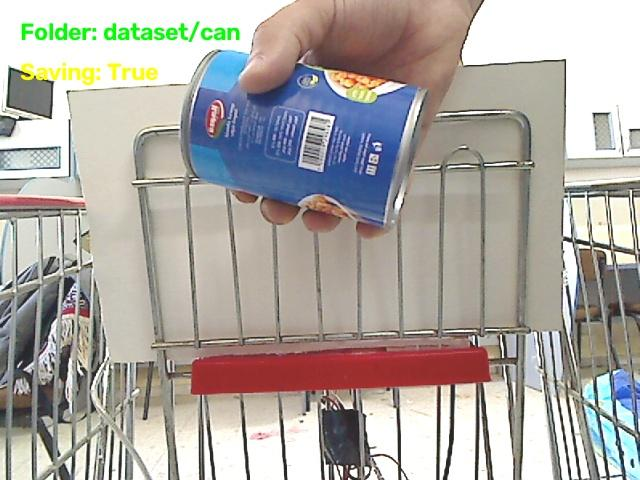can: (180, 51, 426, 227)
